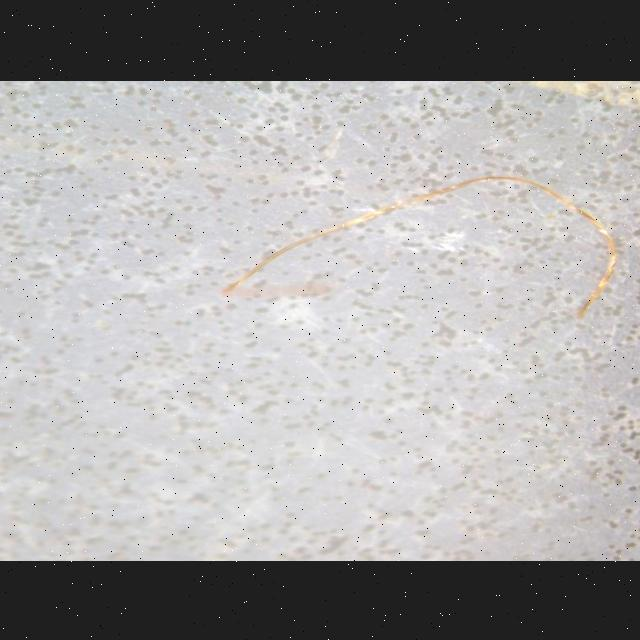Fibre: (222, 174, 620, 320)
